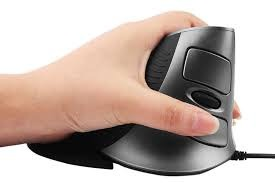mouse: (153, 34, 244, 166)
